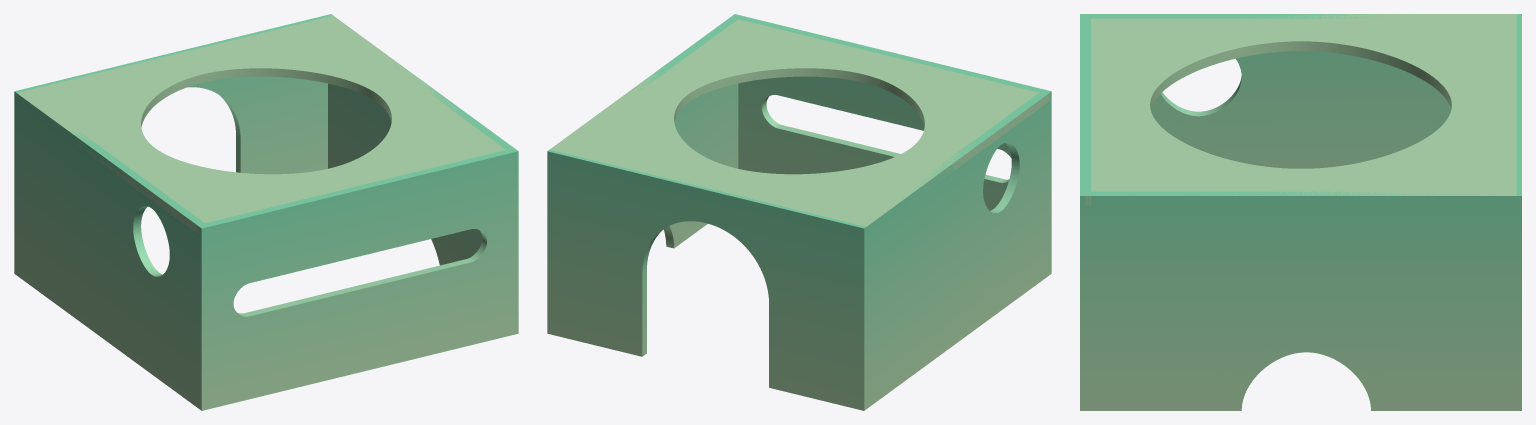
File: wallsandroof-4.glb
3 renders of one model, left to right at view 1: azimuth 30°, elevation 25°; view 2: azimuth 150°, elevation 25°; view 3: azimuth 270°, elevation 25°, orthographic. The views are drawn at different scales.
Visible parts, largest first — view 1: Mesh_0.002; view 2: Mesh_0.002; view 3: Mesh_0.002.
Part boxes in pixels (<box>): Mesh_0.002: <box>14,14,518,410</box>; Mesh_0.002: <box>547,14,1051,410</box>; Mesh_0.002: <box>1080,14,1521,410</box>.
Size of the model in its own units: 20 by 11 by 20.5.
